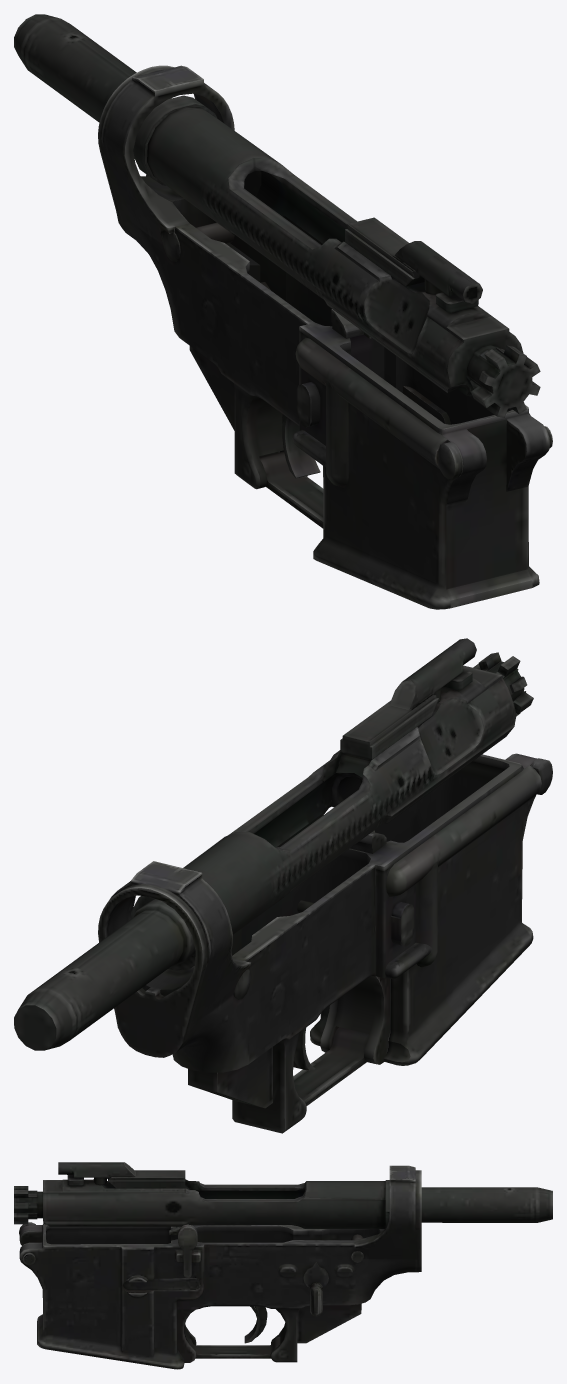
3 views of the same model, one above another, from view 1: azimuth 30°, elevation 25°; view 2: azimuth 150°, elevation 25°; view 3: azimuth 270°, elevation 25° (orthographic). The views are drawn at different scales.
Visible parts, largest first — view 1: weapon_colt_m4a1_556x45_LOD0, weapon_colt_m4a1_556x45_bolt_LOD0, release_LOD0, trigger_LOD0; view 2: weapon_colt_m4a1_556x45_LOD0, weapon_colt_m4a1_556x45_bolt_LOD0, release_LOD0; view 3: weapon_colt_m4a1_556x45_LOD0, weapon_colt_m4a1_556x45_bolt_LOD0, selector_LOD0, release_LOD0, bolt_catch_LOD0, trigger_LOD0.
Part boxes in pixels (x1,y1,x2,y2): weapon_colt_m4a1_556x45_LOD0: [98, 65, 552, 609]; weapon_colt_m4a1_556x45_bolt_LOD0: [14, 14, 540, 417]; release_LOD0: [296, 382, 450, 427]; trigger_LOD0: [282, 414, 320, 478]; weapon_colt_m4a1_556x45_LOD0: [98, 753, 552, 1133]; weapon_colt_m4a1_556x45_bolt_LOD0: [14, 638, 533, 1050]; release_LOD0: [391, 901, 414, 946]; weapon_colt_m4a1_556x45_LOD0: [19, 1165, 421, 1369]; weapon_colt_m4a1_556x45_bolt_LOD0: [14, 1162, 552, 1228]; selector_LOD0: [303, 1261, 328, 1316]; release_LOD0: [123, 1278, 200, 1289]; bolt_catch_LOD0: [169, 1224, 197, 1278]; trigger_LOD0: [244, 1306, 267, 1343].
Size of the model in its own units: 0.0373 by 0.1049 by 0.2653.
2 materials, 2 textured.
